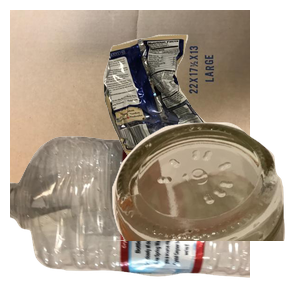cardboard: (10, 10, 250, 190)
glass: (89, 120, 300, 300)
plastic: (10, 134, 250, 300)
trash: (101, 32, 300, 195)
